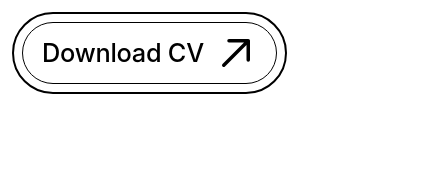
Test: DownloadCvButton › shows an error in in-app browsers instead of navigating to a failing CV
Click the button at (149, 53), box [12, 12, 287, 94]
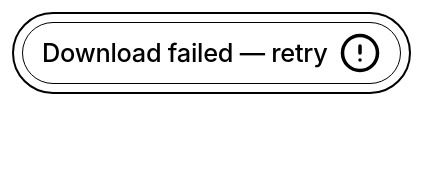
Expected: the button reads "Download failed — retry", [12, 12, 410, 94]
